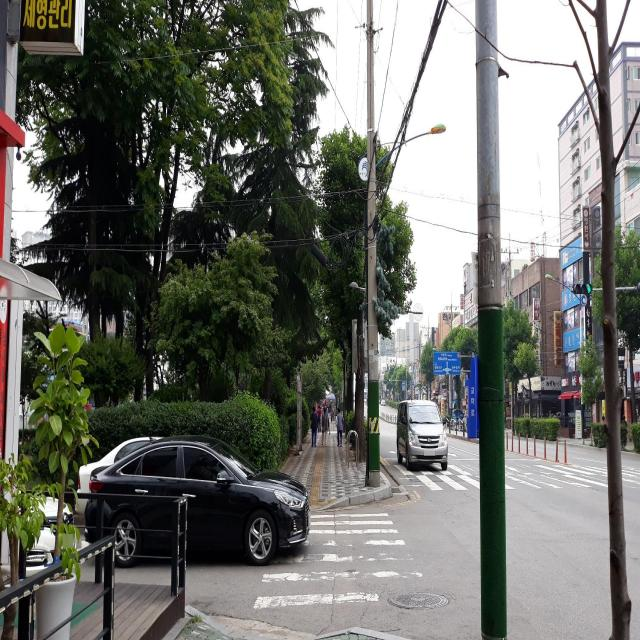횡단보도: (252, 512, 423, 611), (406, 472, 606, 485)
